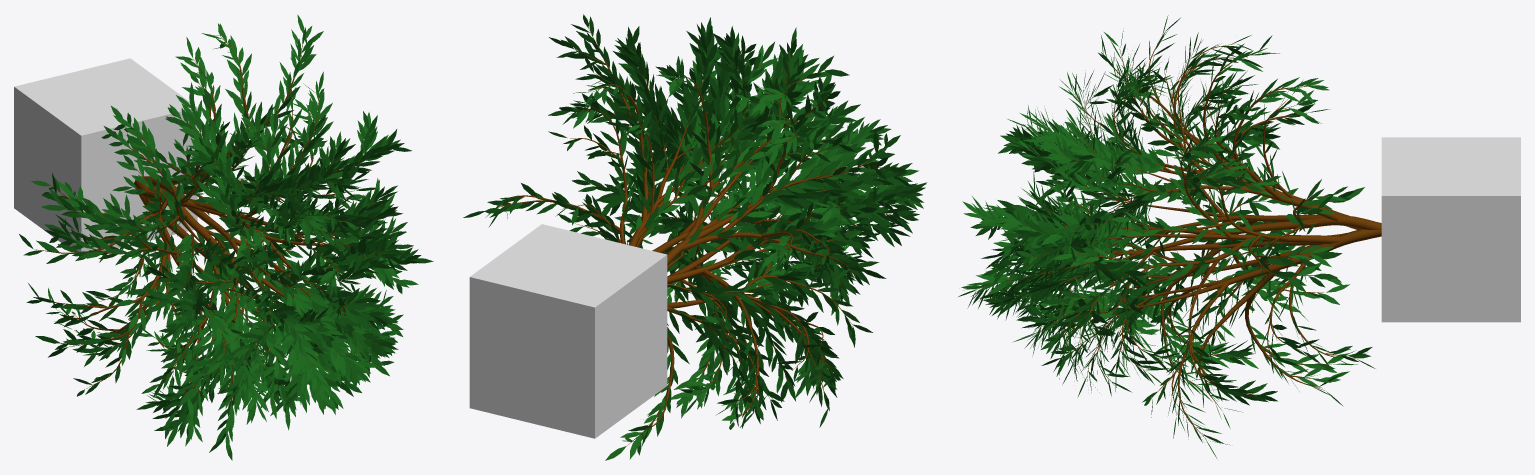
Rendered from boompje.fbx.
3 renders of one model, left to right at view 1: azimuth 30°, elevation 25°; view 2: azimuth 150°, elevation 25°; view 3: azimuth 270°, elevation 25°, orthographic. The views are drawn at different scales.
Parts seen in each view (by area): view 1: leaves, Cube, tree; view 2: leaves, Cube, tree; view 3: leaves, Cube, tree.
Boxes of the visible parts, bbox=[...] form: leaves: bbox=[19, 14, 433, 460]; Cube: bbox=[14, 58, 197, 251]; tree: bbox=[34, 37, 404, 409]; leaves: bbox=[463, 14, 926, 460]; Cube: bbox=[469, 224, 667, 438]; tree: bbox=[498, 28, 900, 445]; leaves: bbox=[958, 15, 1375, 458]; Cube: bbox=[1381, 137, 1520, 322]; tree: bbox=[978, 35, 1381, 439].
Bounding box in the file's own units: 580 × 614 × 811.
